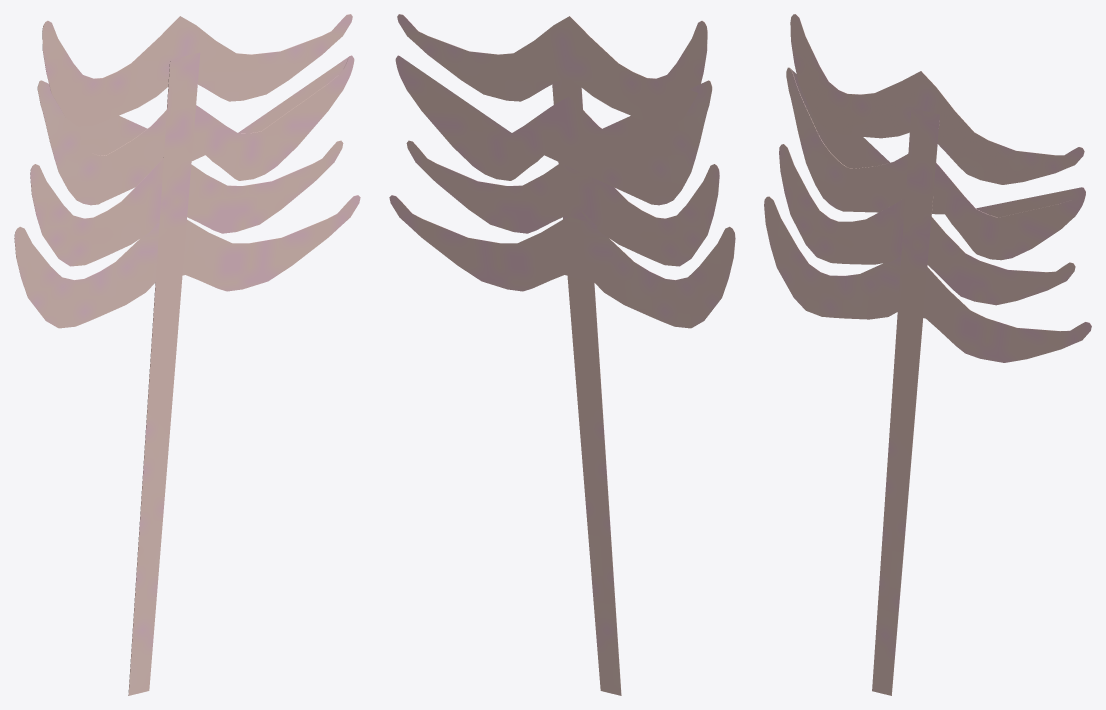
Rendered from tower.fbx_winter_tree_2.fbx.
3 renders of one model, left to right at view 1: azimuth 30°, elevation 25°; view 2: azimuth 150°, elevation 25°; view 3: azimuth 330°, elevation 25°, orthographic. The views are drawn at different scales.
Visible parts, largest first — view 1: bark1.001; view 2: bark1.001; view 3: bark1.001.
Boxes of the visible parts, left/top/right/bottom form: bark1.001: left=14, top=14, right=360, bottom=695; bark1.001: left=389, top=14, right=735, bottom=695; bark1.001: left=764, top=14, right=1091, bottom=695.
Size of the model in its own units: 969 by 1861 by 3.79.
